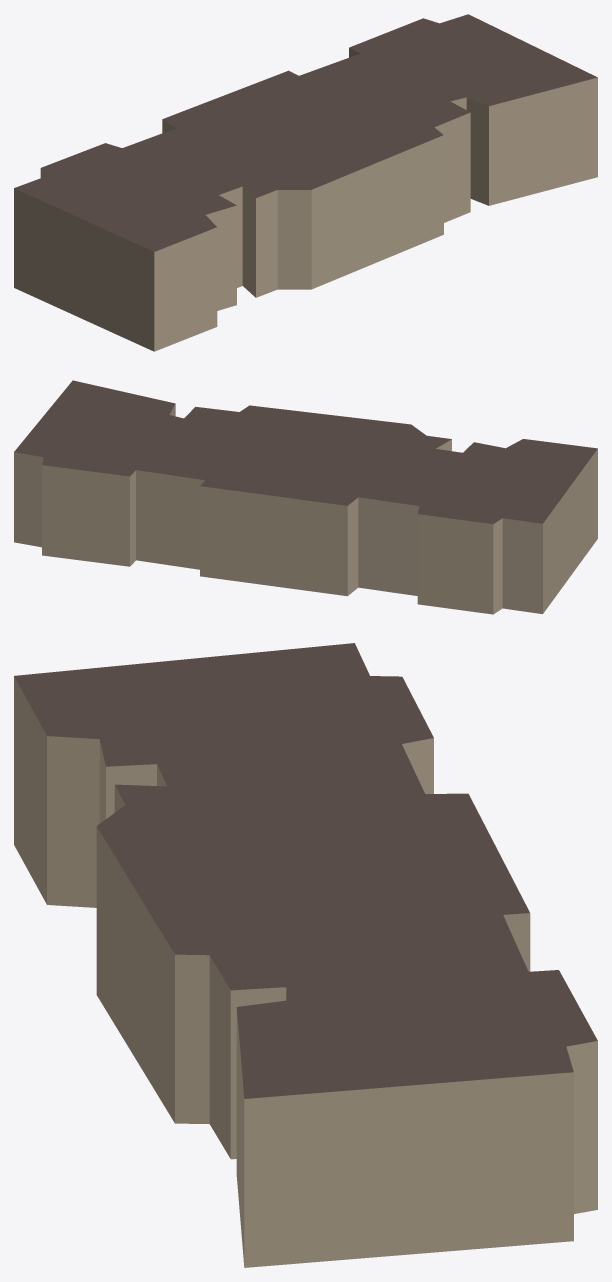
3 renders of one model, top to bottom at view 1: azimuth 30°, elevation 25°; view 2: azimuth 150°, elevation 25°; view 3: azimuth 270°, elevation 25°, orthographic. The views are drawn at different scales.
Parts seen in each view (by area): view 1: HP-w1512481861; view 2: HP-w1512481861; view 3: HP-w1512481861.
Part boxes in pixels (bbox=[...]): HP-w1512481861: bbox=[14, 14, 597, 351]; HP-w1512481861: bbox=[14, 380, 597, 614]; HP-w1512481861: bbox=[14, 643, 597, 1267].
Size of the model in its own units: 52.09 by 9 by 28.2.
